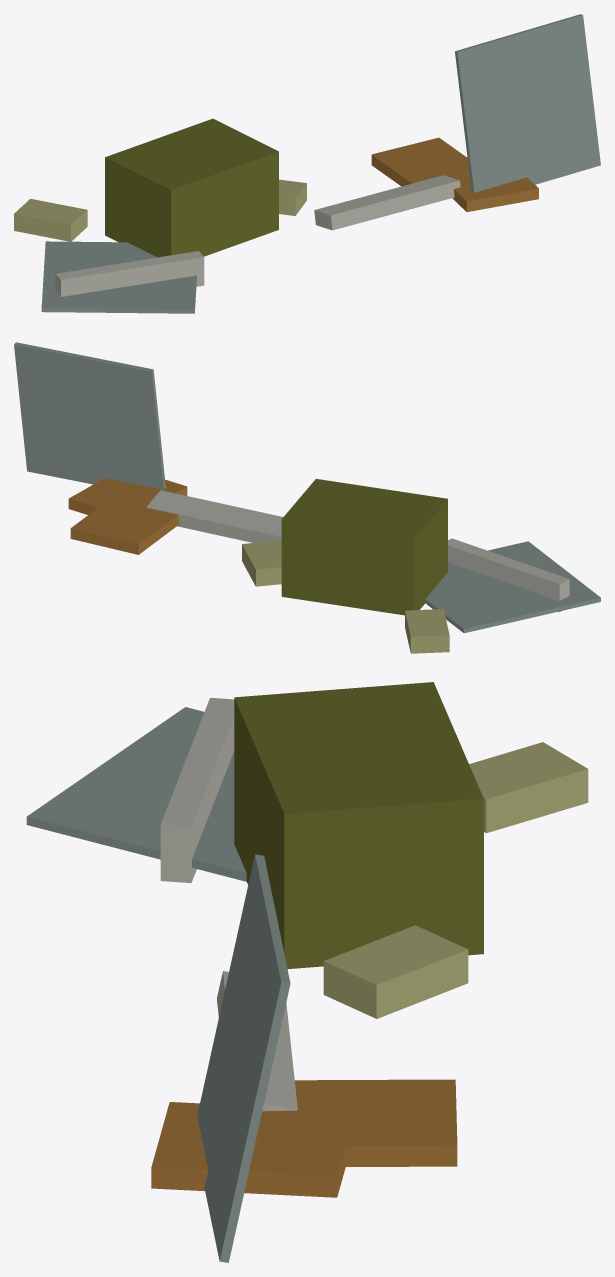
The model's file is SM_BarricadaCivil_v2_Vallas_e2_MuyDanado_LOD1.fbx.
3 renders of one model, top to bottom at view 1: azimuth 30°, elevation 25°; view 2: azimuth 150°, elevation 25°; view 3: azimuth 270°, elevation 25°, orthographic. The views are drawn at different scales.
Parts seen in each view (by area): view 1: SM_barricada_civil_v10_LOD1; view 2: SM_barricada_civil_v10_LOD1; view 3: SM_barricada_civil_v10_LOD1.
Part boxes in pixels (bbox=[...]): SM_barricada_civil_v10_LOD1: bbox=[14, 14, 600, 313]; SM_barricada_civil_v10_LOD1: bbox=[14, 342, 600, 653]; SM_barricada_civil_v10_LOD1: bbox=[26, 682, 588, 1262].
Bounding box in the file's own units: 8.34 × 2.09 × 3.6.
